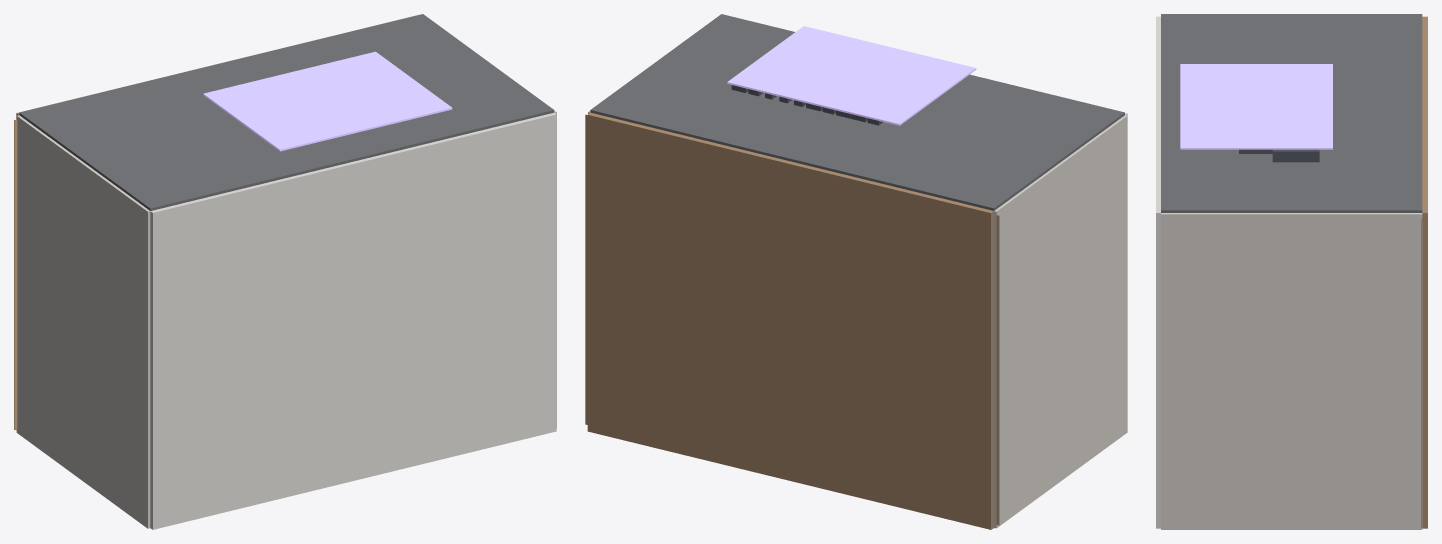
The model's file is developer_room_concept_v4.glb.
3 views of the same model, side by side, from view 1: azimuth 30°, elevation 25°; view 2: azimuth 150°, elevation 25°; view 3: azimuth 270°, elevation 25° (orthographic).
Visible parts, largest first — view 1: ceiling, wall_left, wall_back, sky_panel, floor_plank_0; view 2: room_floor, wall_left, wall_back, sky_panel, floor_plank_0, floor_plank_19; view 3: wall_right, wall_back, sky_panel, room_floor, ceiling, city_building_9.
Boxes of the visible parts, <box> form: ceiling: <box>150,112,556,529</box>; wall_left: <box>16,115,150,528</box>; wall_back: <box>19,14,554,210</box>; sky_panel: <box>203,51,452,151</box>; floor_plank_0: <box>14,119,17,430</box>; room_floor: <box>587,112,993,529</box>; wall_left: <box>994,115,1127,528</box>; wall_back: <box>590,14,1124,210</box>; sky_panel: <box>727,26,976,125</box>; floor_plank_0: <box>996,215,999,525</box>; floor_plank_19: <box>585,114,587,424</box>; wall_right: <box>1161,213,1422,529</box>; wall_back: <box>1161,14,1422,212</box>; sky_panel: <box>1180,64,1332,149</box>; room_floor: <box>1422,16,1427,528</box>; ceiling: <box>1156,16,1160,528</box>; city_building_9: <box>1272,149,1319,162</box>.
Size of the model in its own units: 4.93 by 3.84 by 2.81.
